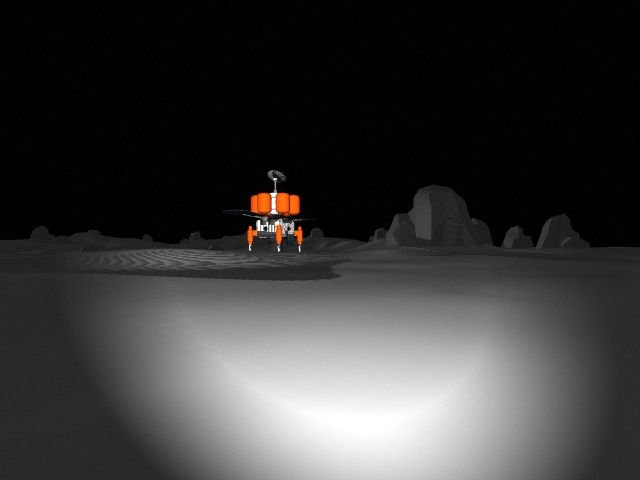homebase: (221, 169, 319, 256)
